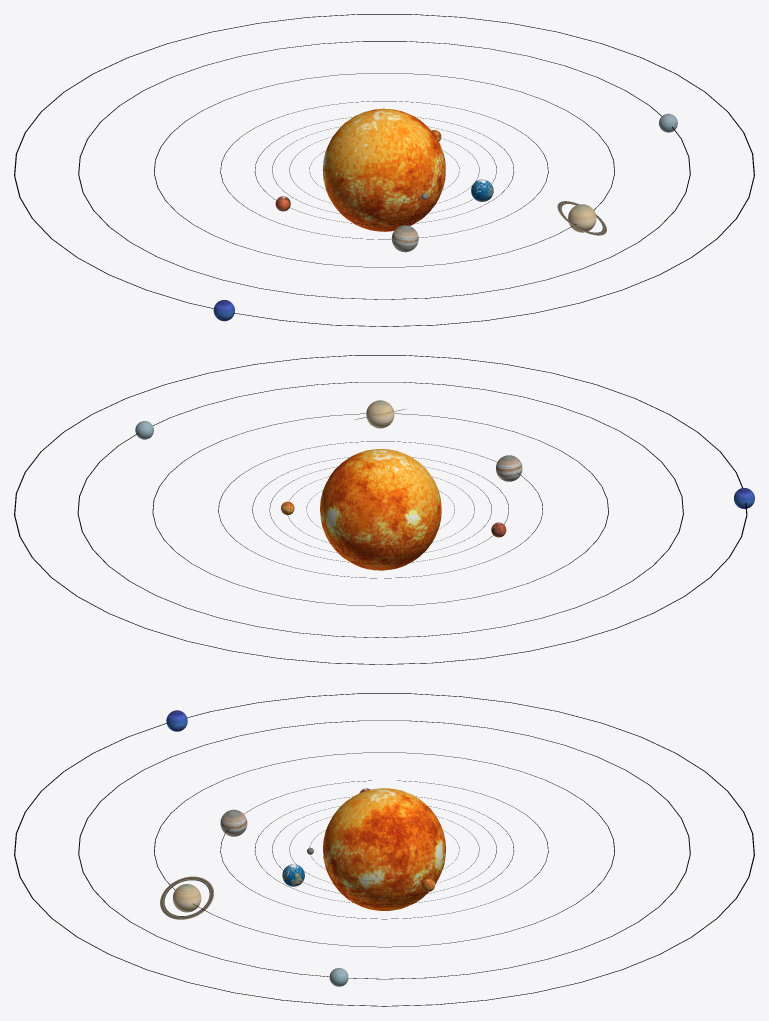
File: solar.glb
3 views of the same model, one above another, from view 1: azimuth 30°, elevation 25°; view 2: azimuth 150°, elevation 25°; view 3: azimuth 270°, elevation 25° (orthographic).
Visible parts, largest first — view 1: Sun.001, Orbit7.002, Orbit7.003, Orbit6.001, Orbit5.001, Saturn.001, Jupiter.001; view 2: Sun.001, Orbit7.002, Orbit7.003, Orbit6.001, Saturn.001, Orbit5.001, Jupiter.001; view 3: Sun.001, Orbit7.002, Orbit7.003, Orbit6.001, Saturn.001, ring, Orbit5.001, Jupiter.001.
Part boxes in pixels (x1,y1,x2,y2): Sun.001: [322, 108, 445, 231]; Orbit7.002: [14, 14, 754, 326]; Orbit7.003: [78, 41, 690, 299]; Orbit6.001: [154, 73, 614, 267]; Orbit5.001: [220, 101, 548, 239]; Saturn.001: [568, 204, 596, 232]; Jupiter.001: [391, 225, 418, 252]; Sun.001: [320, 449, 441, 570]; Orbit7.002: [14, 355, 747, 664]; Orbit7.003: [77, 382, 683, 637]; Orbit6.001: [152, 413, 608, 606]; Saturn.001: [366, 400, 394, 428]; Orbit5.001: [218, 441, 542, 578]; Jupiter.001: [496, 455, 522, 481]; Sun.001: [323, 788, 445, 910]; Orbit7.002: [14, 693, 754, 1006]; Orbit7.003: [78, 720, 690, 979]; Orbit6.001: [154, 752, 614, 947]; Saturn.001: [172, 884, 201, 912]; ring: [160, 876, 213, 919]; Orbit5.001: [220, 780, 548, 919]; Jupiter.001: [220, 809, 247, 836].
Size of the model in its own units: 4.96 by 0.8237 by 4.96.
11 materials, 10 textured.
